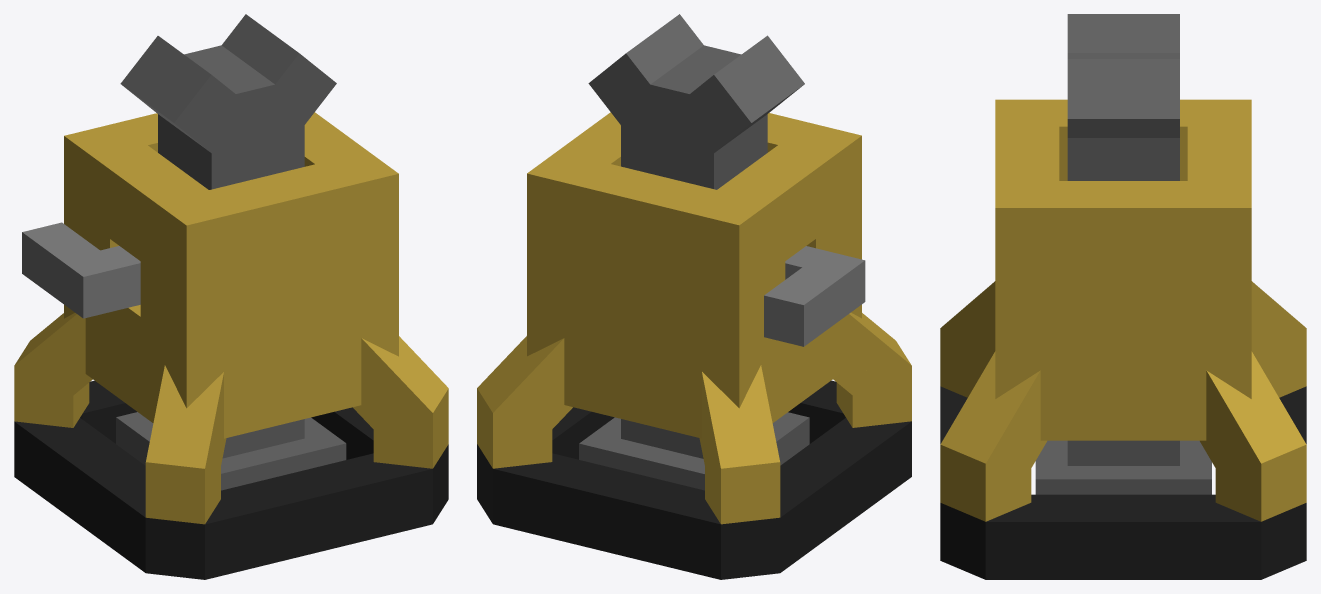
File: jackstand.obj
3 renders of one model, left to right at view 1: azimuth 30°, elevation 25°; view 2: azimuth 150°, elevation 25°; view 3: azimuth 270°, elevation 25°, orthographic. The views are drawn at different scales.
Parts seen in each view (by area): view 1: cube, piston, lever; view 2: cube, piston, lever; view 3: cube, piston.
Boxes of the visible parts, x1,y1,x2,y2 form: cube: (14, 112, 448, 579); piston: (116, 14, 346, 490); lever: (22, 222, 140, 318); cube: (477, 112, 911, 579); piston: (579, 14, 809, 490); lever: (764, 246, 865, 346); cube: (940, 99, 1306, 579); piston: (1035, 14, 1211, 494).
Bounding box in the file's own units: 0.3659 × 0.4998 × 0.3567.
